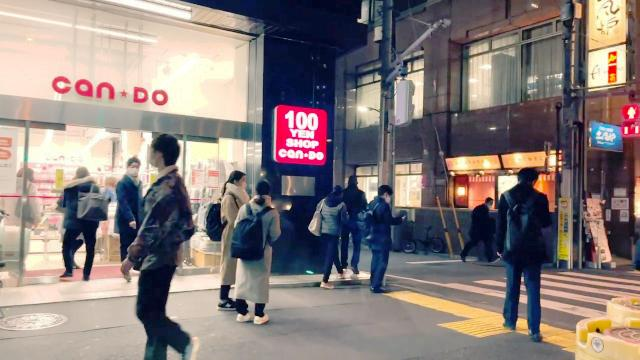berdiri: (501, 165, 559, 345), (218, 172, 274, 324), (366, 184, 394, 292)
berjalan: (124, 132, 206, 360), (55, 162, 105, 284), (316, 178, 350, 296)
